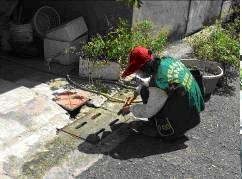styrofoam: (45, 34, 89, 64), (45, 15, 89, 40)
